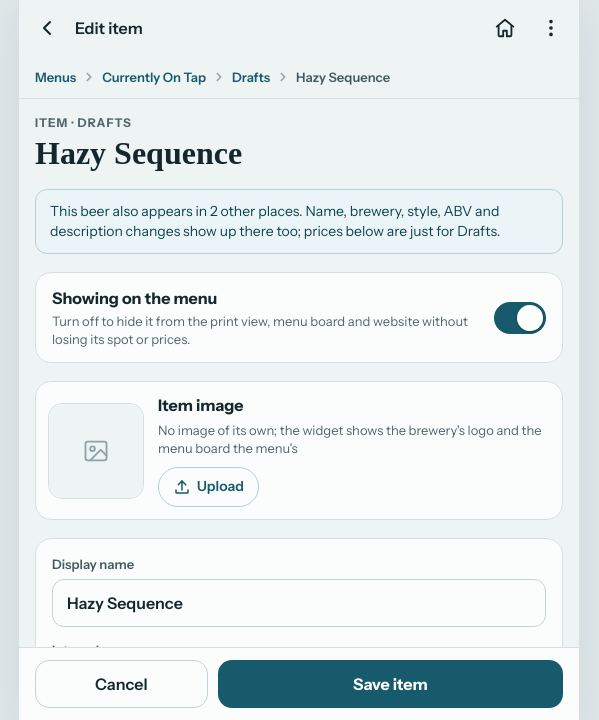
Test case: ItemEditorPage: existing item › marks an item inactive straight away, without saving the rest of the form
The image size is (599, 720).
Note: An unsaved edit to the form stays unsaved (and in place)
Step 1. Type "!" into the field labelled "Display name" → (299, 603), box [52,579,546,627]
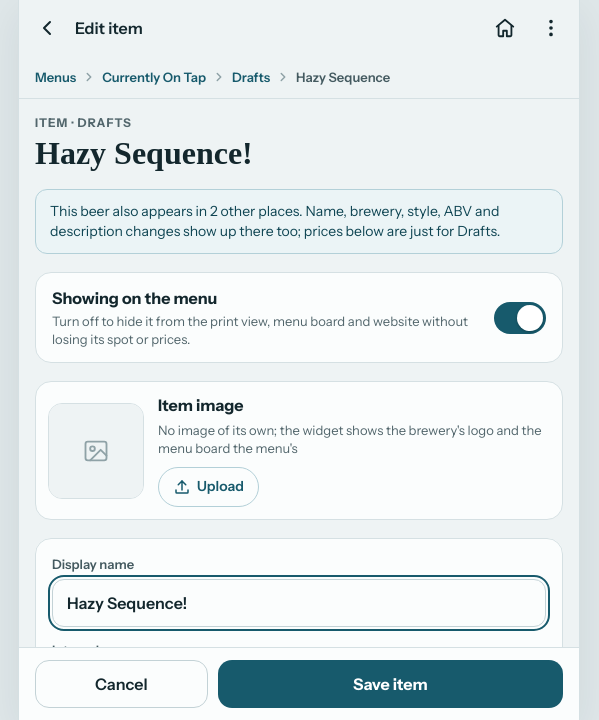
Step 2. Click the switch named "Show on published menus" → (520, 318), box [494,302,546,334]
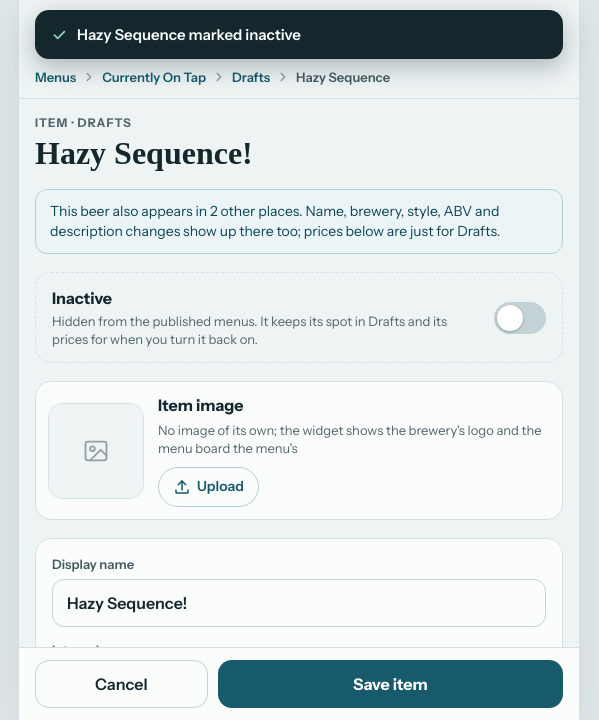
Expected: the switch named "Show on published menus" is not checked, [494,302,546,334]
Expected: the text "Hazy Sequence marked inactive" is shown, [35,10,563,59]
Expected: the text "Inactive" is shown, [52,288,112,308]
